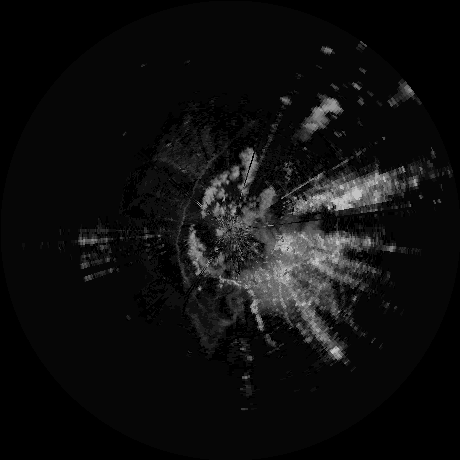frontgust: (172, 204, 187, 279)
